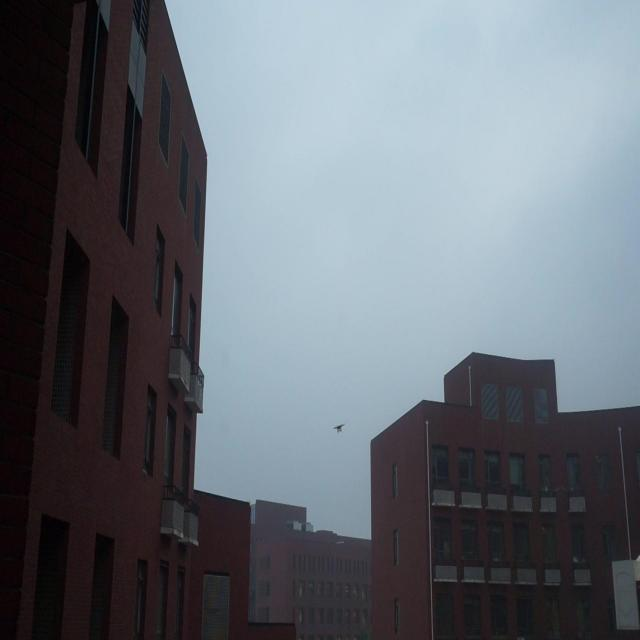UAV: (333, 423, 345, 433)
